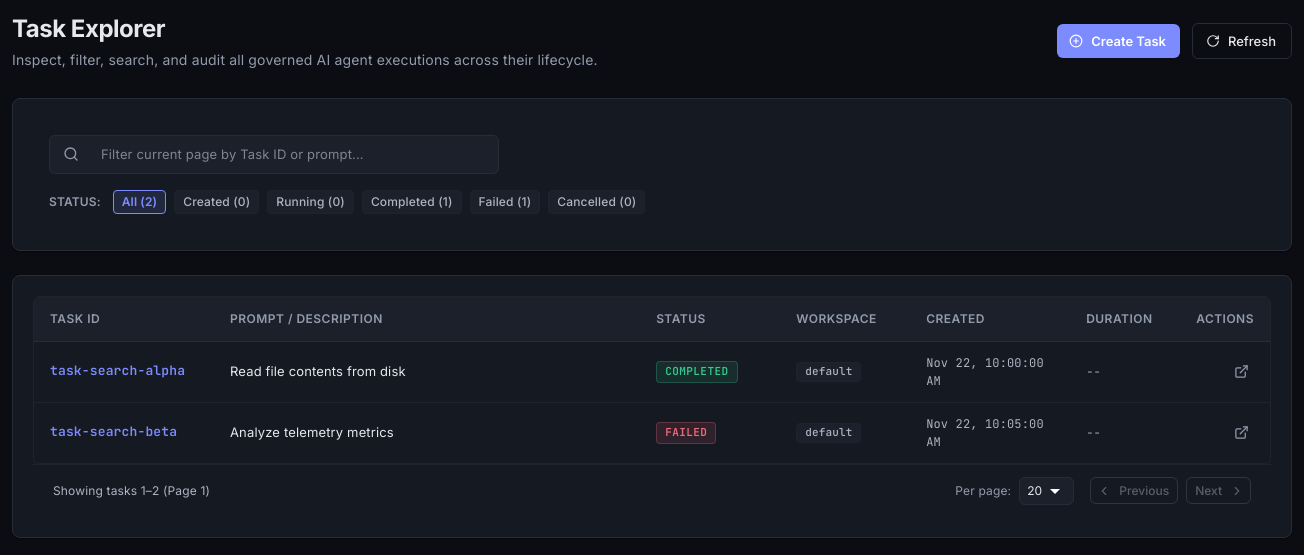
TaskExplorerPage Integration › filters tasks client-side using search term by task ID or prompt
The image size is (1304, 555).
Expected: the link "task-search-alpha" is shown, [50,362,185,379]
Expected: the link "task-search-beta" is shown, [50,423,177,440]
Note: Enter search term
Step 1. Type "telemetry" into the field with placeholder "Filter current page by Task ID or prompt..." → (293, 154), box [87,135,499,174]
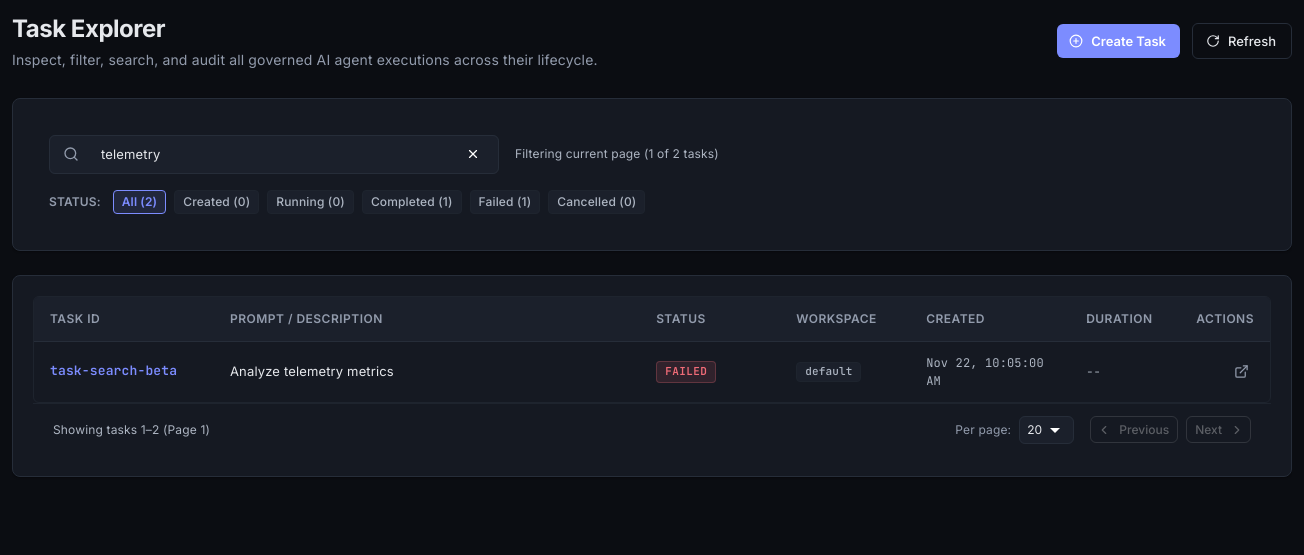
Expected: the link "task-search-beta" is shown, [50,362,177,379]
Expected: the link "task-search-alpha" is gone
Note: Clear search
Step 2. Clear the field with placeholder "Filter current page by Task ID or prompt..." → (270, 154), box [87,135,453,174]
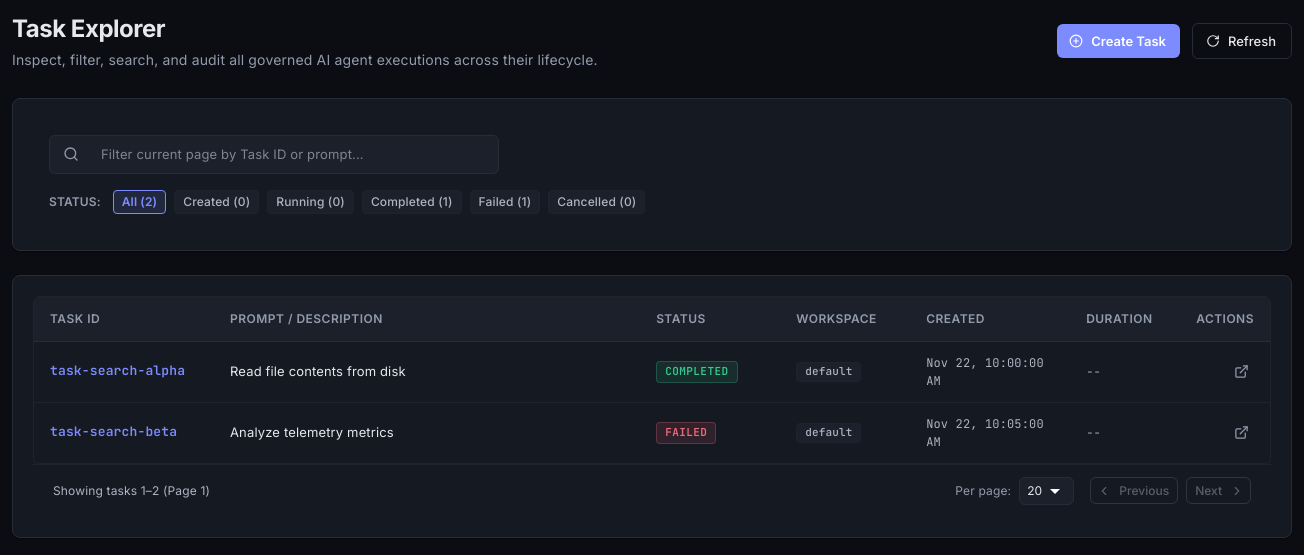
Expected: the link "task-search-alpha" is shown, [50,362,185,379]
